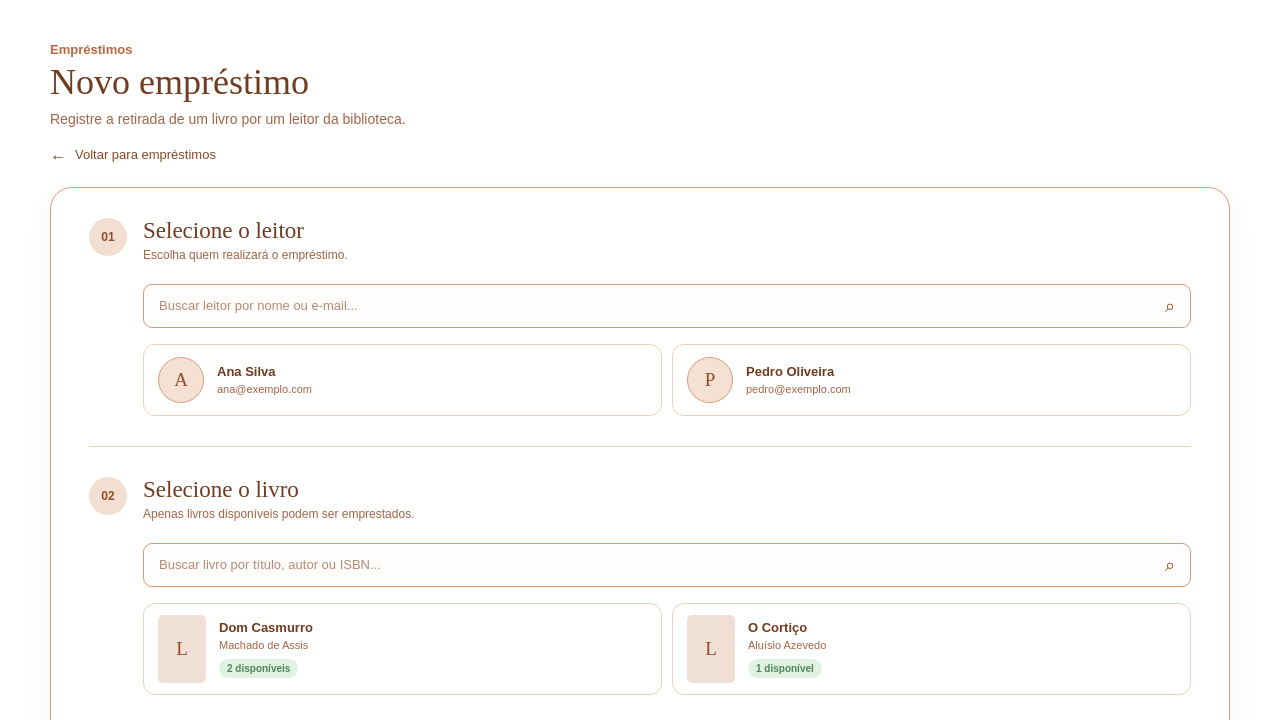
Scenario: Testes de novo empréstimo › deve pesquisar livros por título, autor ou ISBN
Type "CORTIÇO" into the search field with placeholder "Buscar livro por título, autor ou ISBN...".
click(667, 565); type("CORTIÇO")  # box [143,543,1191,587]
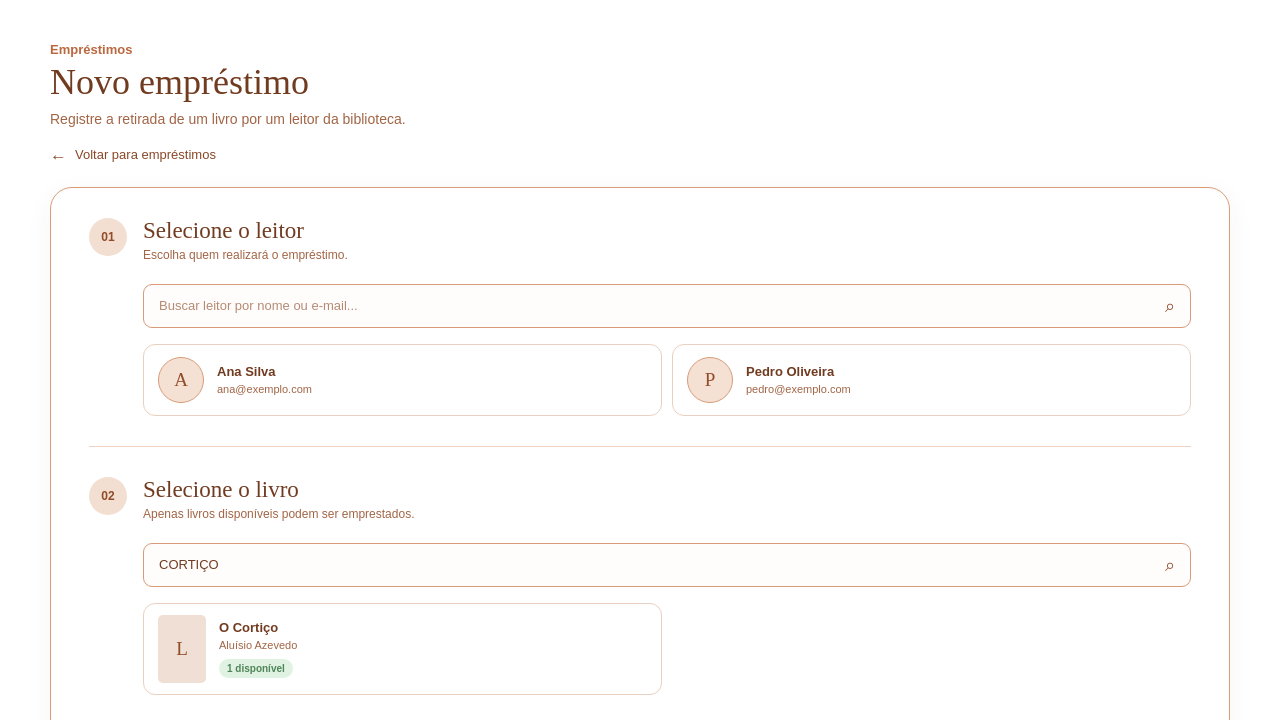
expect the button "L O Cortiço Aluísio Azevedo 1 disponível" is shown: met, box [143,603,662,695]
Replace the text in the search field with placeholder "Buscar livro por título, autor ou ISBN..." with "Machado" at (667, 565), box [143,543,1191,587]
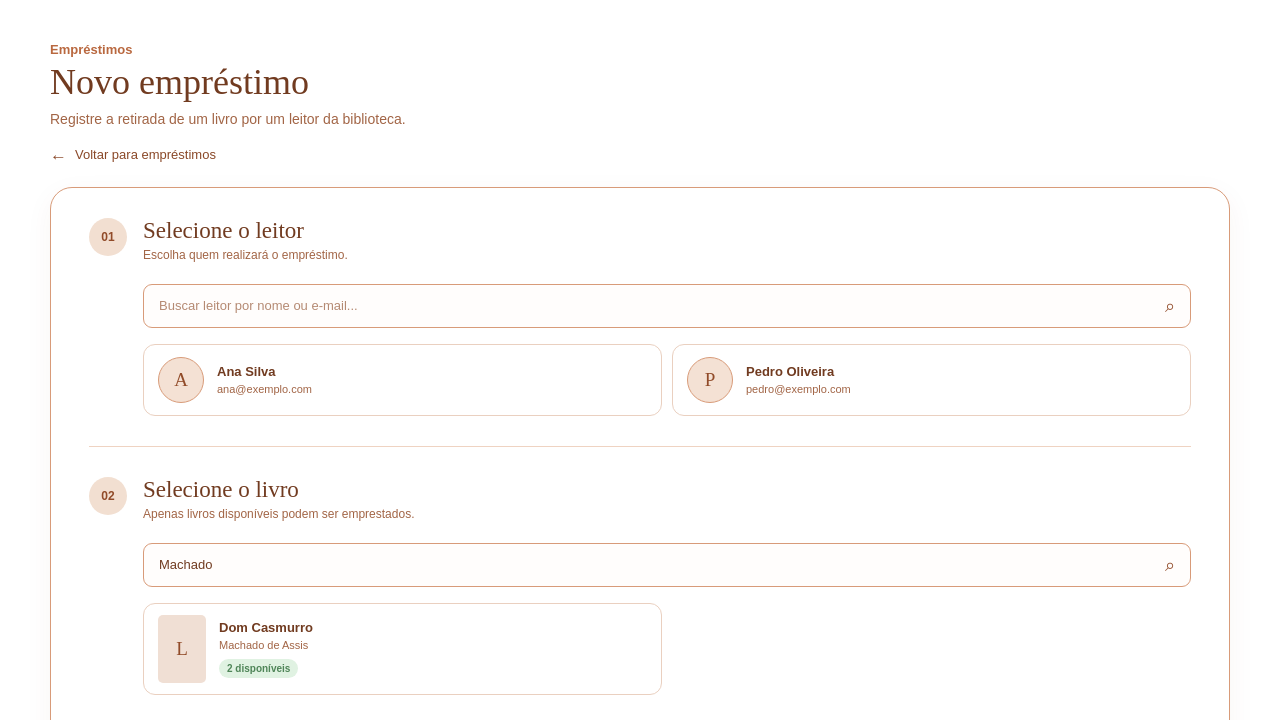
expect the button "L Dom Casmurro Machado de Assis 2 disponíveis" is shown: met, box [143,603,662,695]
Replace the text in the search field with placeholder "Buscar livro por título, autor ou ISBN..." with "9788525406958" at (667, 565), box [143,543,1191,587]
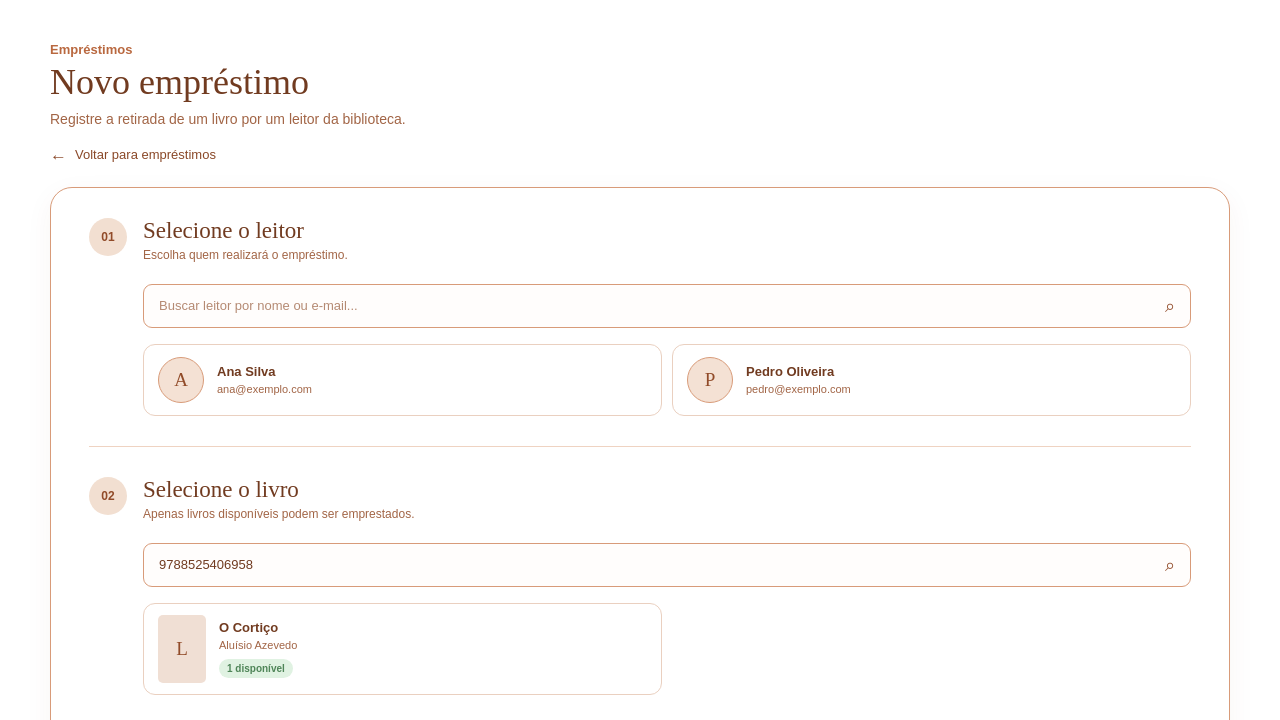
expect the button "L O Cortiço Aluísio Azevedo 1 disponível" is shown: met, box [143,603,662,695]
